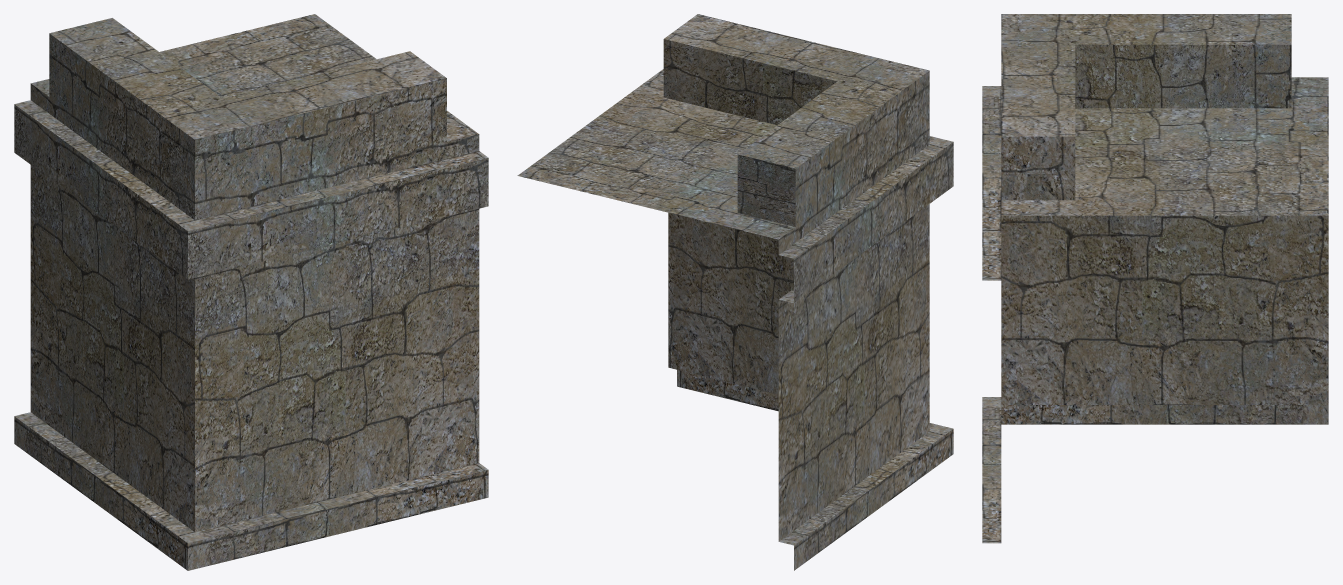
File: T_L_Corner.FBX
3 views of the same model, side by side, from view 1: azimuth 30°, elevation 25°; view 2: azimuth 150°, elevation 25°; view 3: azimuth 270°, elevation 25° (orthographic). The views are drawn at different scales.
Parts seen in each view (by area): view 1: Claimed102SW001; view 2: Claimed102SW001; view 3: Claimed102SW001.
Part boxes in pixels (left/top/right/bottom): Claimed102SW001: left=14, top=14, right=488, bottom=570; Claimed102SW001: left=517, top=14, right=953, bottom=570; Claimed102SW001: left=982, top=14, right=1328, bottom=543.
Size of the model in its own units: 100 by 133 by 100.
